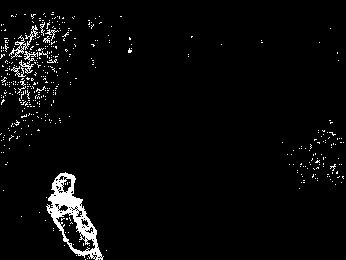person: (46, 170, 104, 259)
